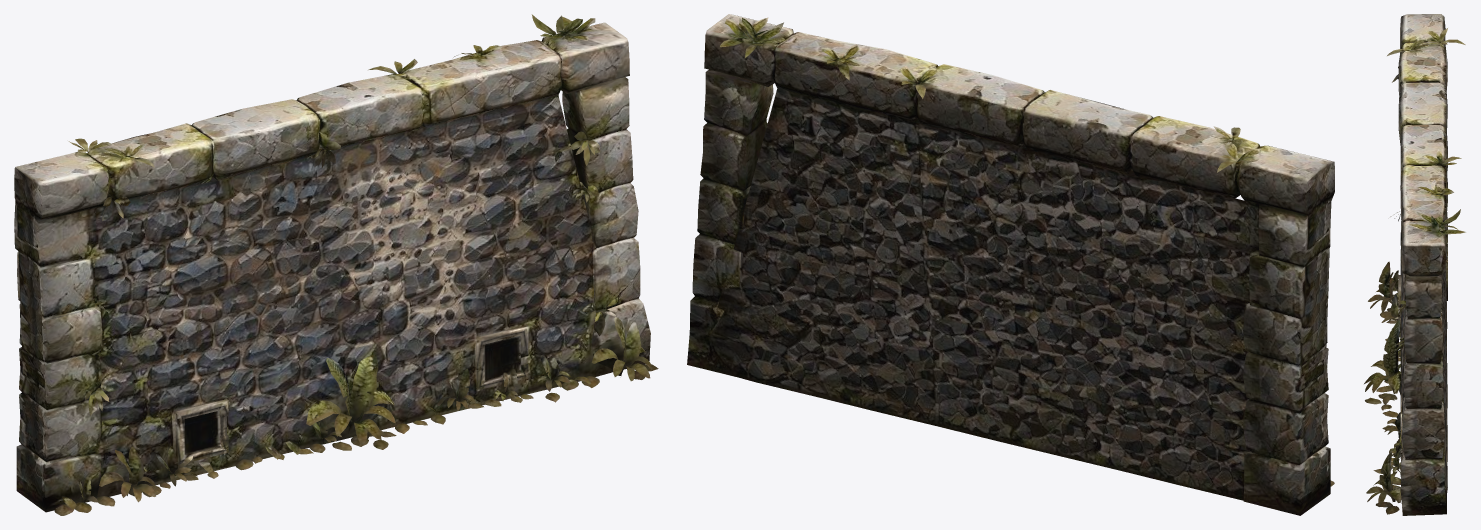
Rendered from act1-a21-2-flint-retaining-wall.glb.
3 renders of one model, left to right at view 1: azimuth 30°, elevation 25°; view 2: azimuth 150°, elevation 25°; view 3: azimuth 270°, elevation 25°, orthographic. The views are drawn at different scales.
Visible parts, largest first — view 1: act1-a21-2-flint-retaining-wall; view 2: act1-a21-2-flint-retaining-wall; view 3: act1-a21-2-flint-retaining-wall.
Part boxes in pixels (x1,y1,x2,y2): act1-a21-2-flint-retaining-wall: (14, 14, 658, 515); act1-a21-2-flint-retaining-wall: (687, 14, 1334, 515); act1-a21-2-flint-retaining-wall: (1364, 14, 1465, 515).
Size of the model in its own units: 4 by 2.16 by 0.7289.
Materials: 1 (1 with a texture image).
